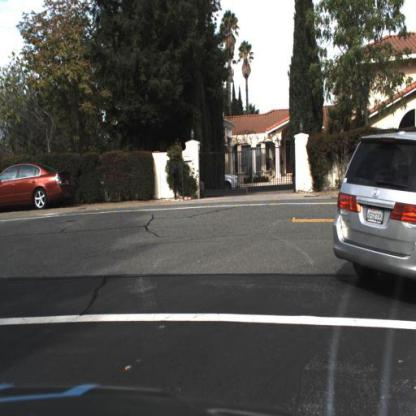car: (333, 124, 416, 298), (214, 170, 241, 193), (223, 172, 241, 193)
